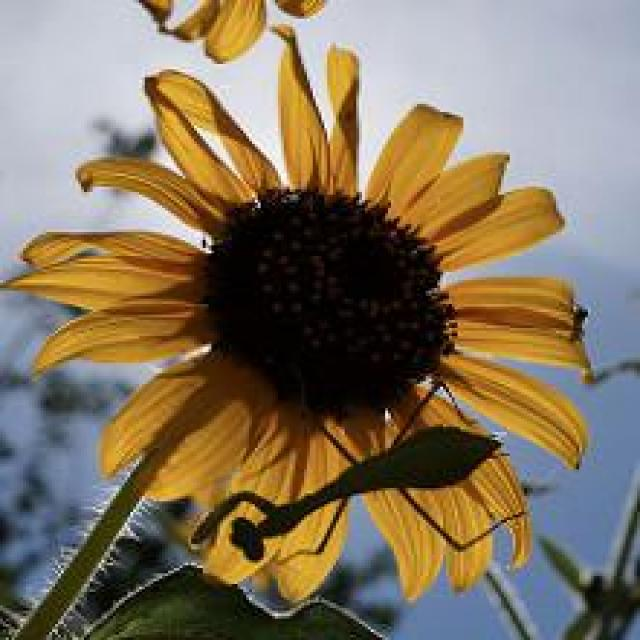sunflower: (12, 26, 590, 602)
